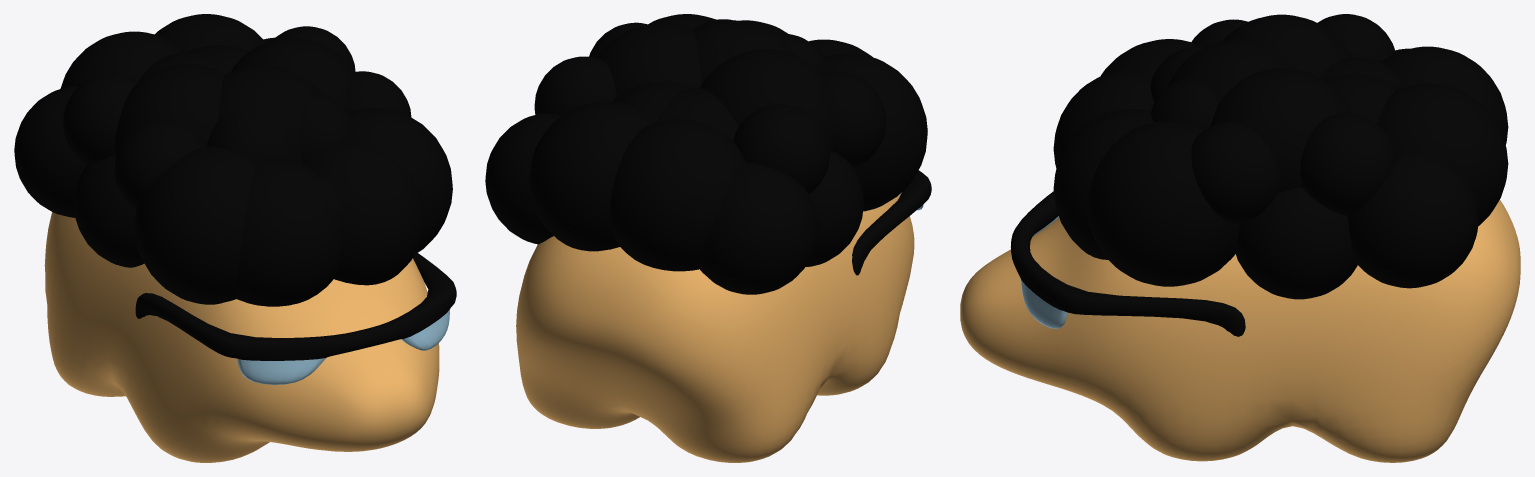
The model's file is GregoMole.fbx.
The picture shows the model from 3 angles, left to right: view 1: azimuth 30°, elevation 25°; view 2: azimuth 150°, elevation 25°; view 3: azimuth 270°, elevation 25°; orthographic projection. The views are drawn at different scales.
Parts seen in each view (by area): view 1: Sphere, Cube, Cube.001; view 2: Sphere, Cube, Cube.001; view 3: Sphere, Cube, Cube.001.
Boxes of the visible parts, x1,y1,x2,y2 form: Sphere: (14,14,452,306); Cube: (44,212,439,462); Cube.001: (135,253,456,384); Sphere: (485,14,927,294); Cube: (516,194,914,462); Cube.001: (852,170,931,275); Sphere: (1053,14,1508,299); Cube: (960,200,1520,462); Cube.001: (1010,191,1245,336).
Size of the model in its own units: 322 by 344 by 478.
